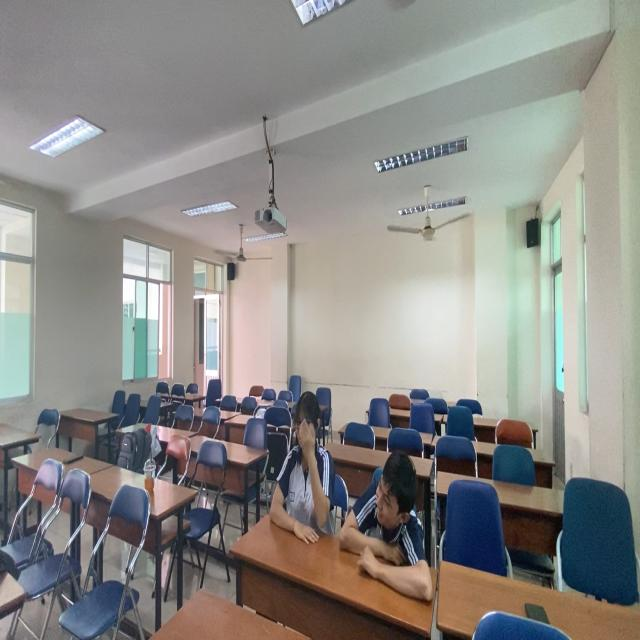raise_hand: (270, 389, 348, 539)
